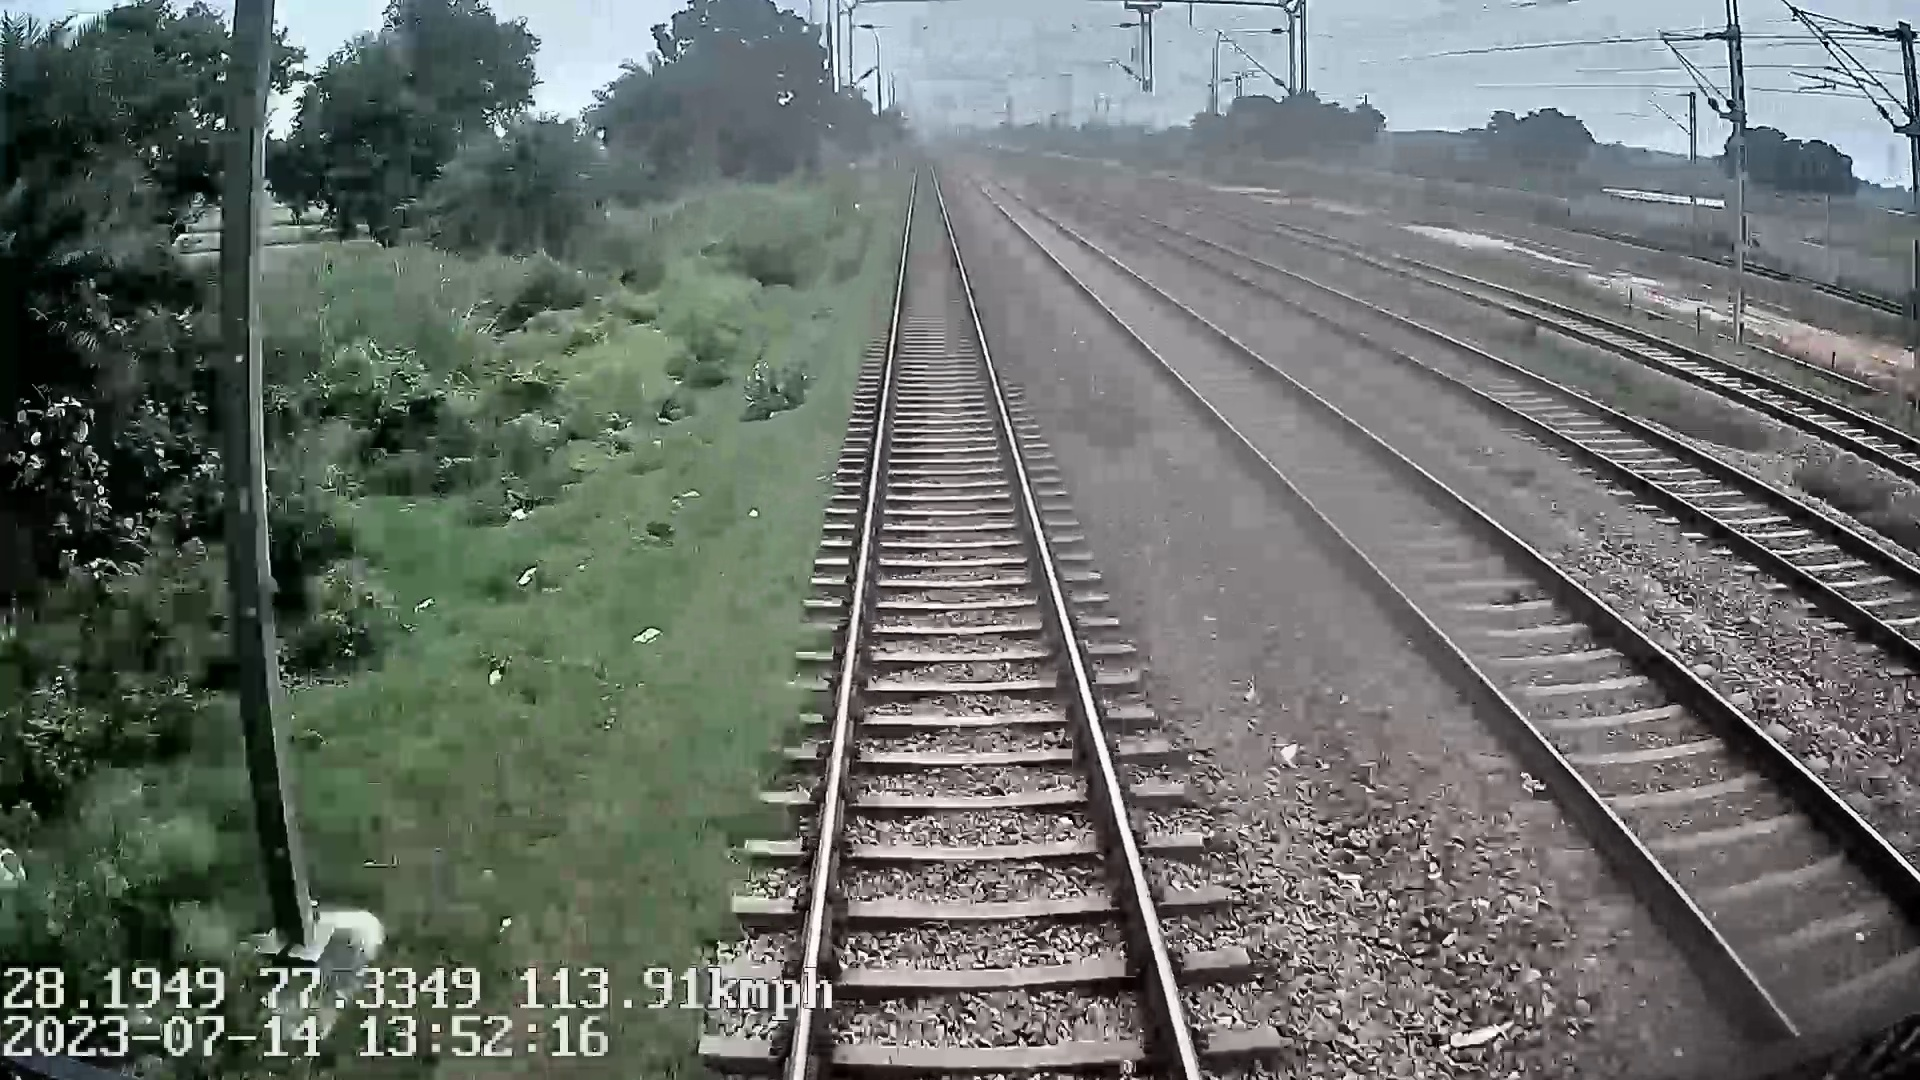track1: (796, 178, 1192, 1062)
track2: (982, 186, 1913, 988)
track3: (1239, 266, 1917, 640)
track4: (1413, 268, 1914, 460)
